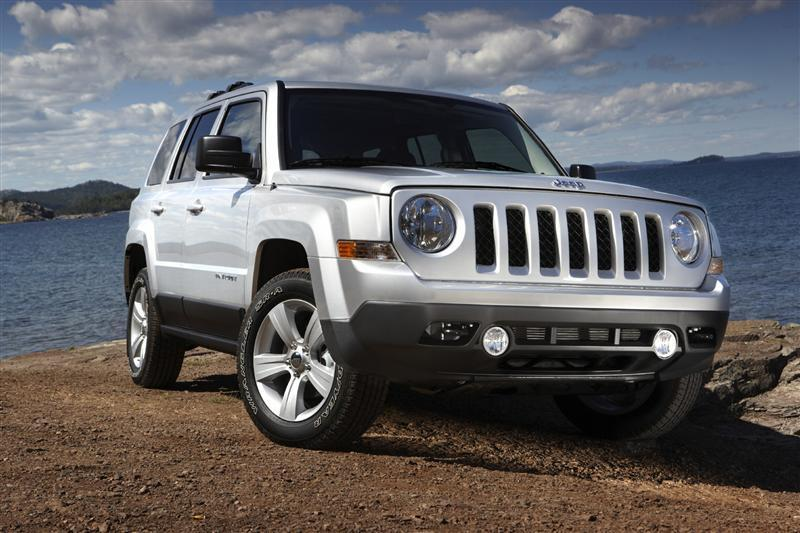Car: (80, 48, 779, 473)
